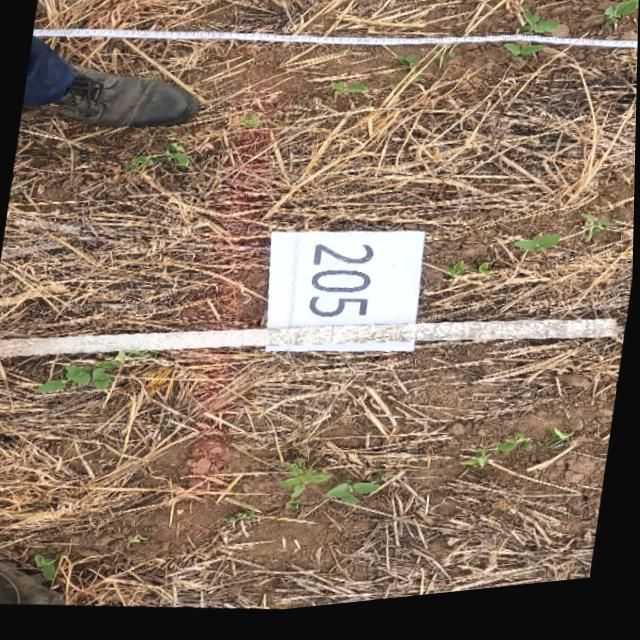caruru_weed: (279, 466, 332, 514)
soy_plant: (462, 443, 533, 479), (39, 367, 113, 394), (125, 144, 189, 174), (604, 0, 639, 37), (327, 487, 380, 511), (513, 245, 562, 264), (582, 226, 611, 255), (519, 24, 558, 44), (445, 271, 489, 287), (504, 54, 541, 72), (35, 555, 60, 580), (394, 63, 421, 77), (237, 118, 260, 133), (343, 91, 367, 101), (389, 84, 396, 95), (255, 105, 262, 115)
